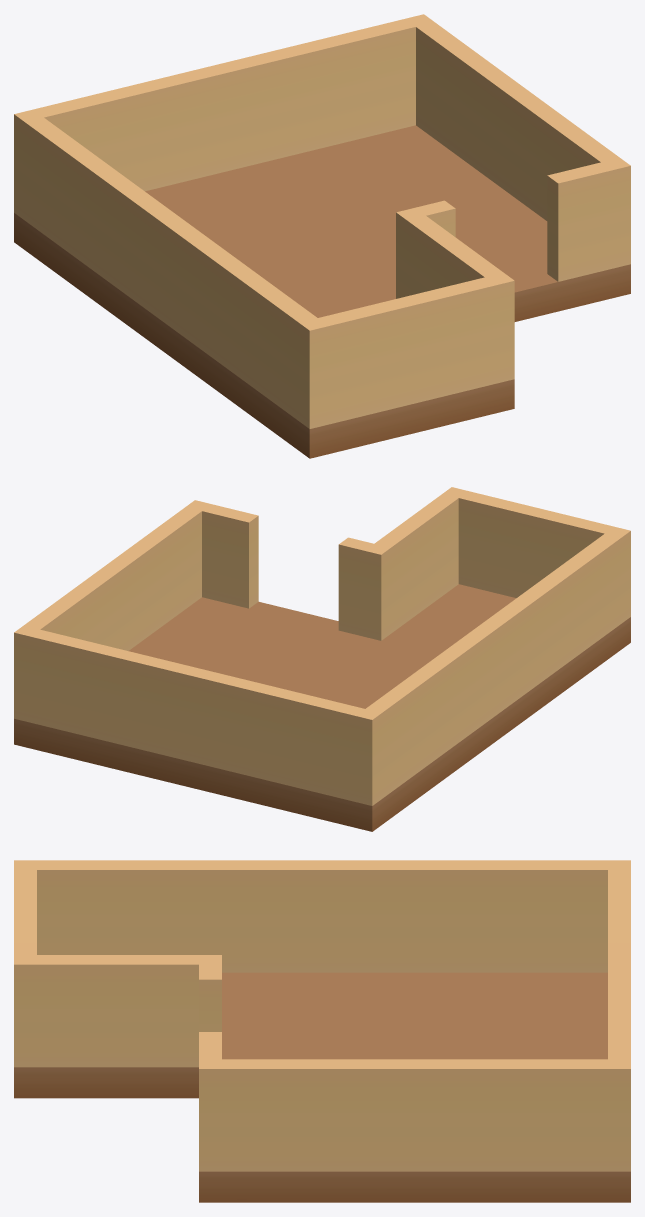
The model's file is Fundaments_2_2.fbx.
3 renders of one model, top to bottom at view 1: azimuth 30°, elevation 25°; view 2: azimuth 150°, elevation 25°; view 3: azimuth 270°, elevation 25°, orthographic. The views are drawn at different scales.
Parts seen in each view (by area): view 1: Fundaments_2_2; view 2: Fundaments_2_2; view 3: Fundaments_2_2.
Part boxes in pixels (x1,y1,x2,y2): Fundaments_2_2: (14,14,630,458); Fundaments_2_2: (14,487,630,831); Fundaments_2_2: (14,860,630,1202).
Bounding box in the file's own units: 800 × 239 × 1000.
